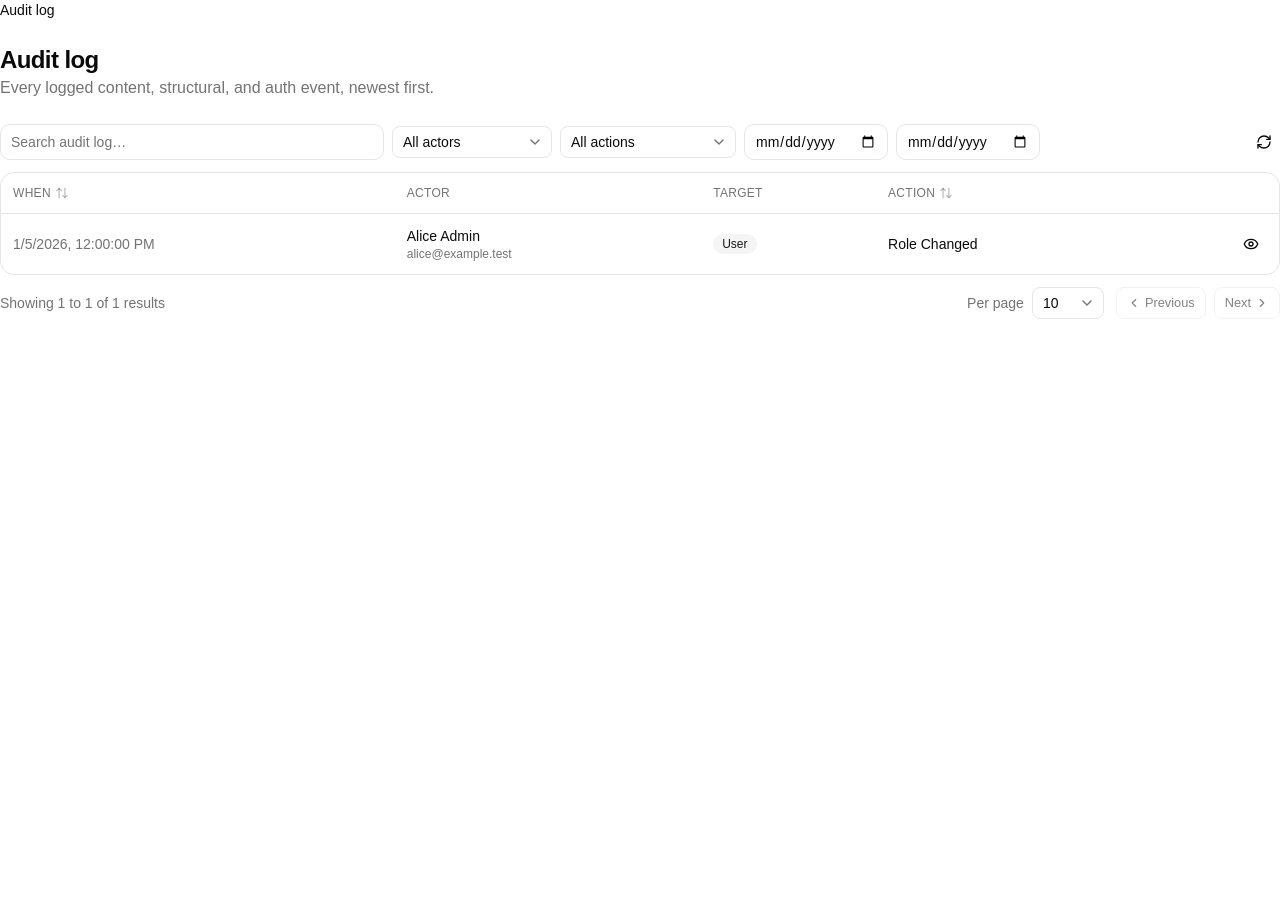
Test case: AuditLogPage › shows a human-readable detail view instead of raw JSON when a row has metadata
The width and height of the screenshot is (1280, 900).
Expected: the text "Role Changed" is shown, x1=888 y1=236 x2=978 y2=252
Click the button named "View details" at (1251, 244), box x1=1235 y1=228 x2=1267 y2=260
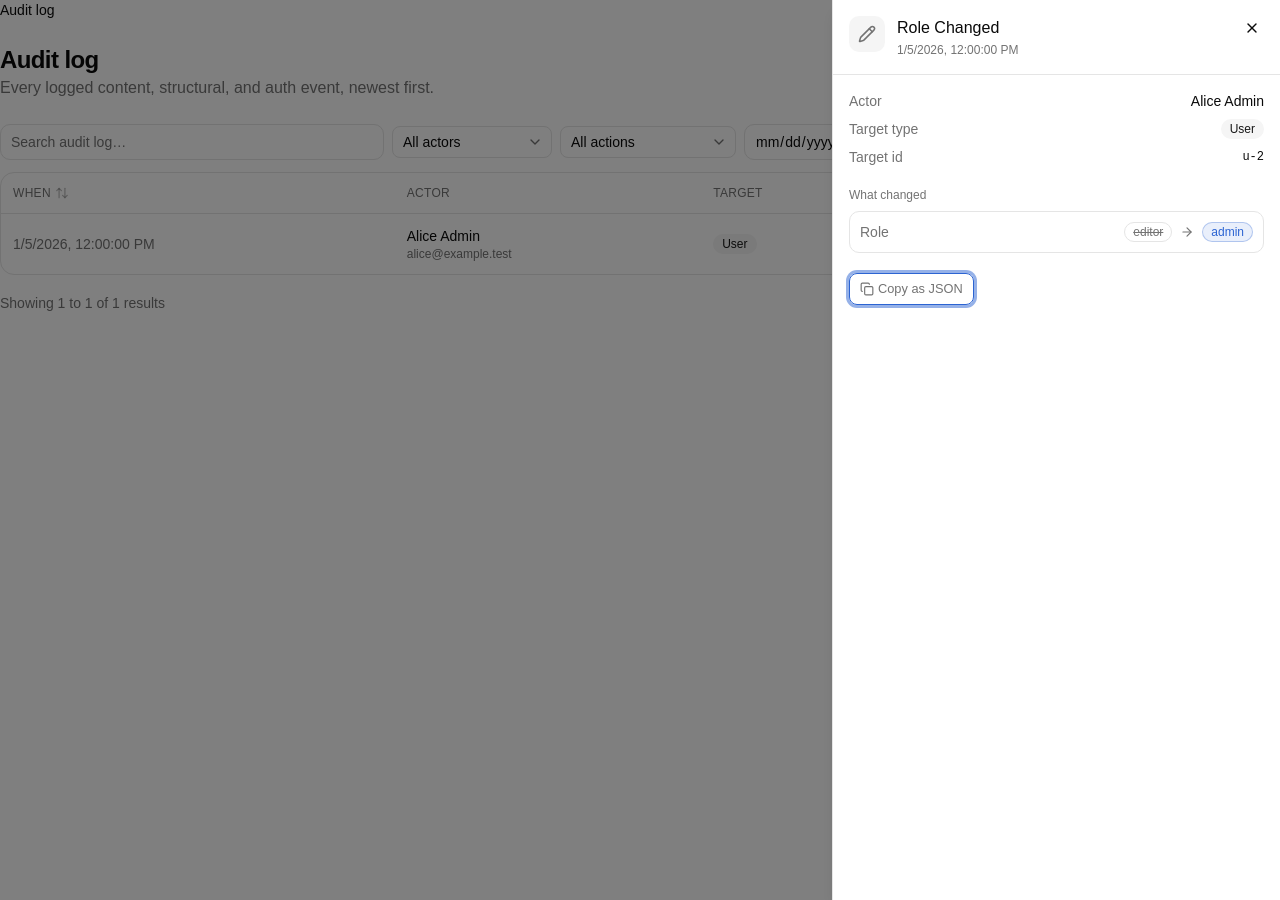
Now the text "What changed" is shown, box x1=849 y1=188 x2=926 y2=202
Now the text "Role" is shown, box x1=860 y1=222 x2=889 y2=242
Now the text "editor" is shown, box x1=1133 y1=224 x2=1163 y2=240
